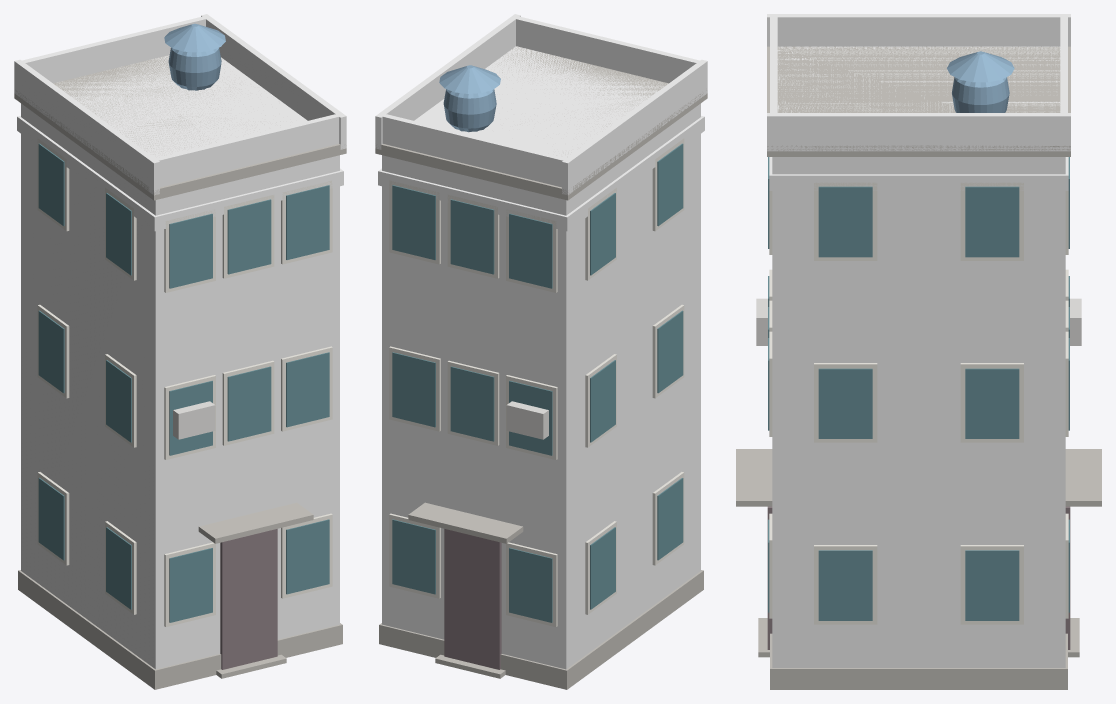
The model's file is predio3.glb.
3 views of the same model, side by side, from view 1: azimuth 30°, elevation 25°; view 2: azimuth 150°, elevation 25°; view 3: azimuth 270°, elevation 25° (orthographic). The views are drawn at different scales.
Parts seen in each view (by area): view 1: Predio3; view 2: Predio3; view 3: Predio3.
Part boxes in pixels (<box>): Predio3: <box>14,14,346,689</box>; Predio3: <box>375,14,707,689</box>; Predio3: <box>736,14,1101,689</box>.
Bounding box in the file's own units: 3.14 × 8.72 × 4.74.
